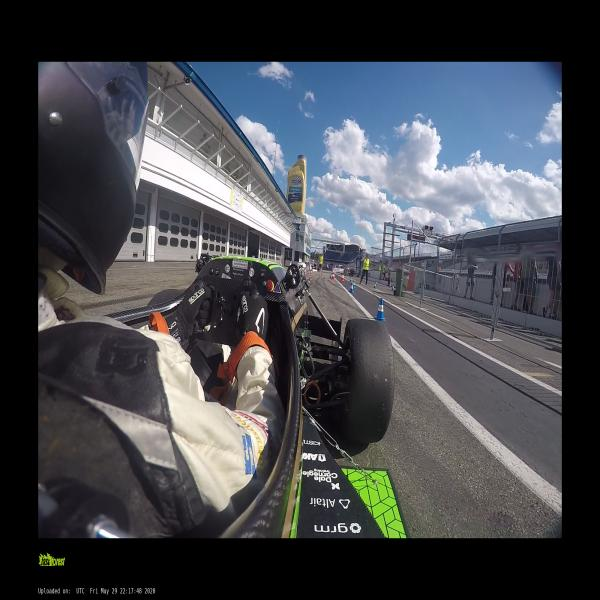blue_cone: (375, 298, 386, 322), (349, 282, 354, 294), (351, 278, 354, 288), (349, 277, 352, 282), (392, 284, 394, 291), (374, 282, 376, 288)
orange_cone: (341, 273, 344, 282), (332, 272, 335, 280)
